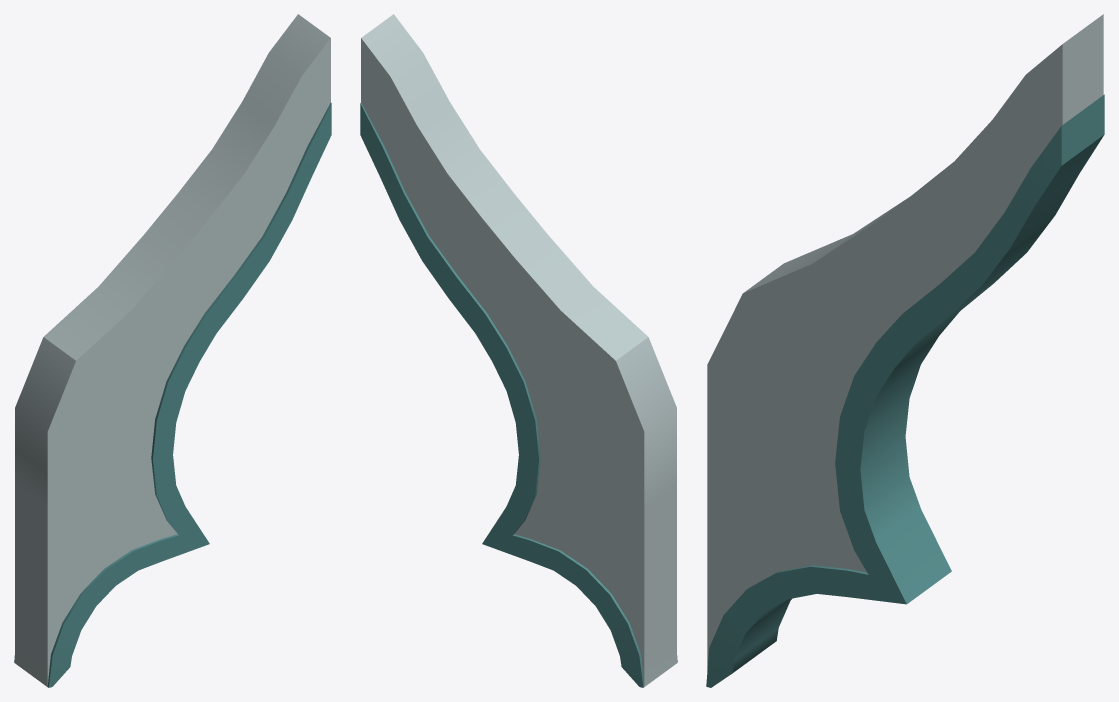
File: ArabArch_A.fbx
3 views of the same model, side by side, from view 1: azimuth 30°, elevation 25°; view 2: azimuth 150°, elevation 25°; view 3: azimuth 330°, elevation 25° (orthographic). The views are drawn at different scales.
Parts seen in each view (by area): view 1: ArabianArch_A; view 2: ArabianArch_A; view 3: ArabianArch_A.
Boxes of the visible parts, x1,y1,x2,y2 form: ArabianArch_A: (14, 14, 331, 687); ArabianArch_A: (360, 14, 677, 687); ArabianArch_A: (706, 14, 1104, 687).
Bounding box in the file's own units: 100 × 196 × 22.
